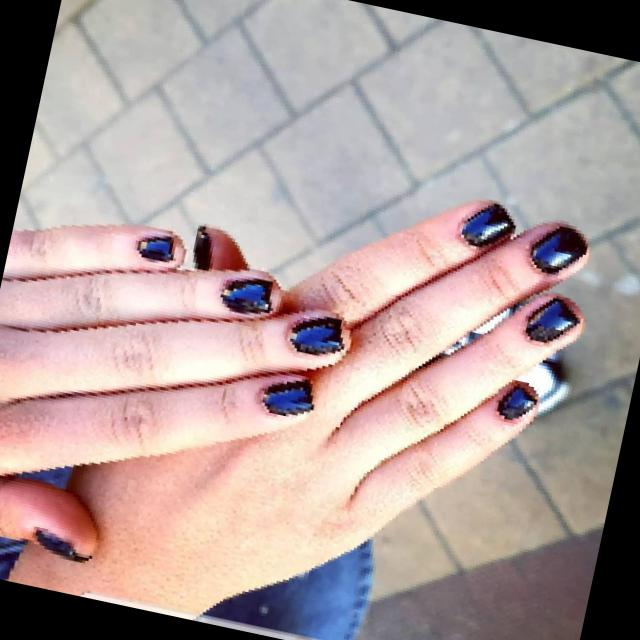Nail: (530, 224, 587, 274), (525, 296, 578, 342), (460, 202, 513, 247), (289, 315, 343, 354), (262, 378, 312, 415), (35, 528, 89, 562), (221, 277, 271, 313), (498, 382, 536, 418), (137, 235, 174, 260), (193, 225, 210, 268)
